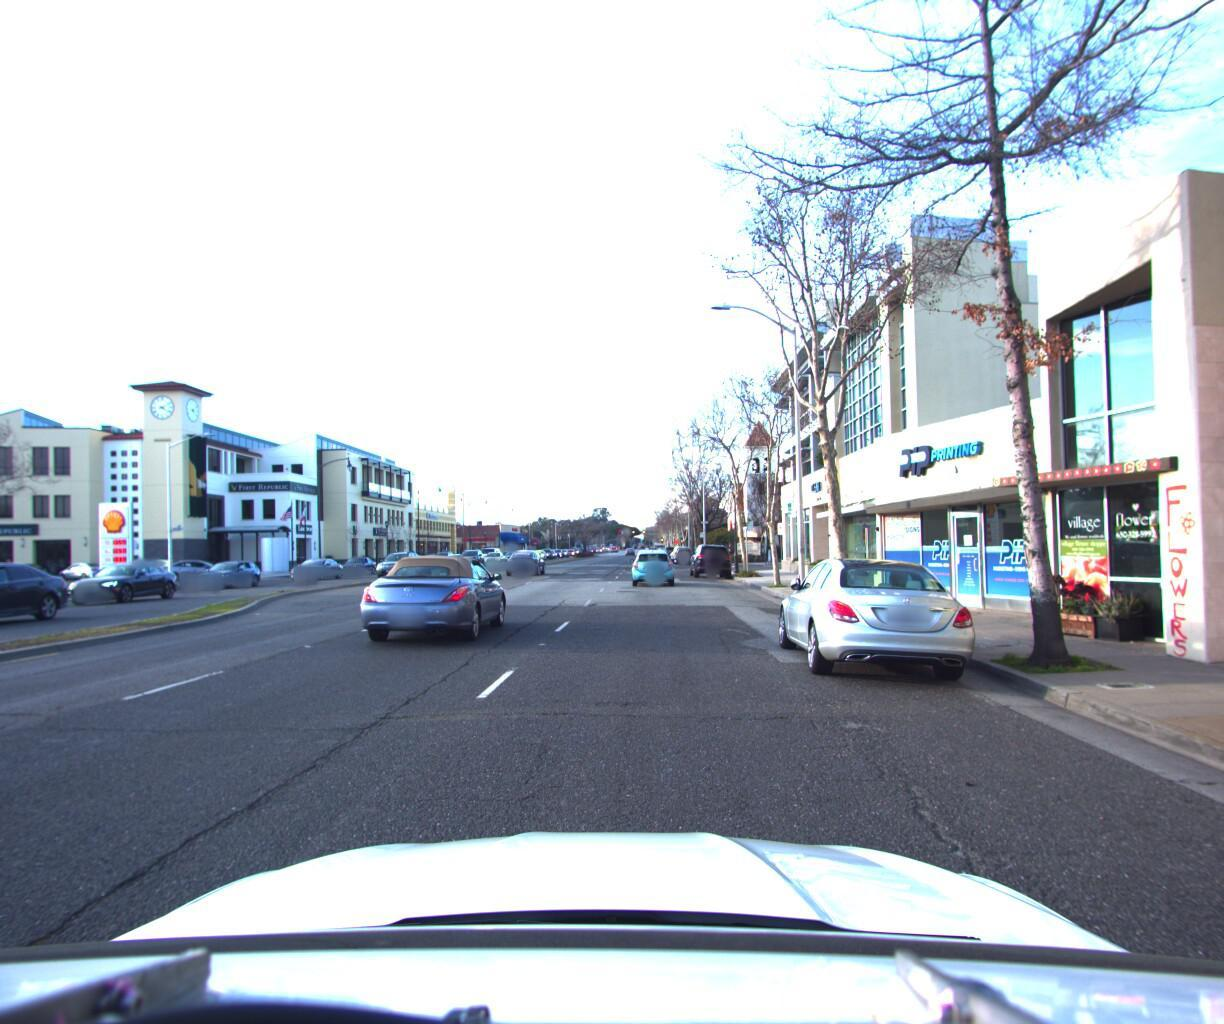car: (774, 546, 990, 698), (356, 547, 513, 648), (0, 557, 80, 638), (62, 551, 187, 602), (194, 554, 269, 588), (157, 554, 242, 582), (631, 543, 675, 584), (688, 538, 734, 576), (374, 547, 425, 576), (290, 553, 347, 578), (58, 558, 123, 580), (503, 543, 544, 571), (334, 550, 379, 573), (674, 542, 693, 561)
